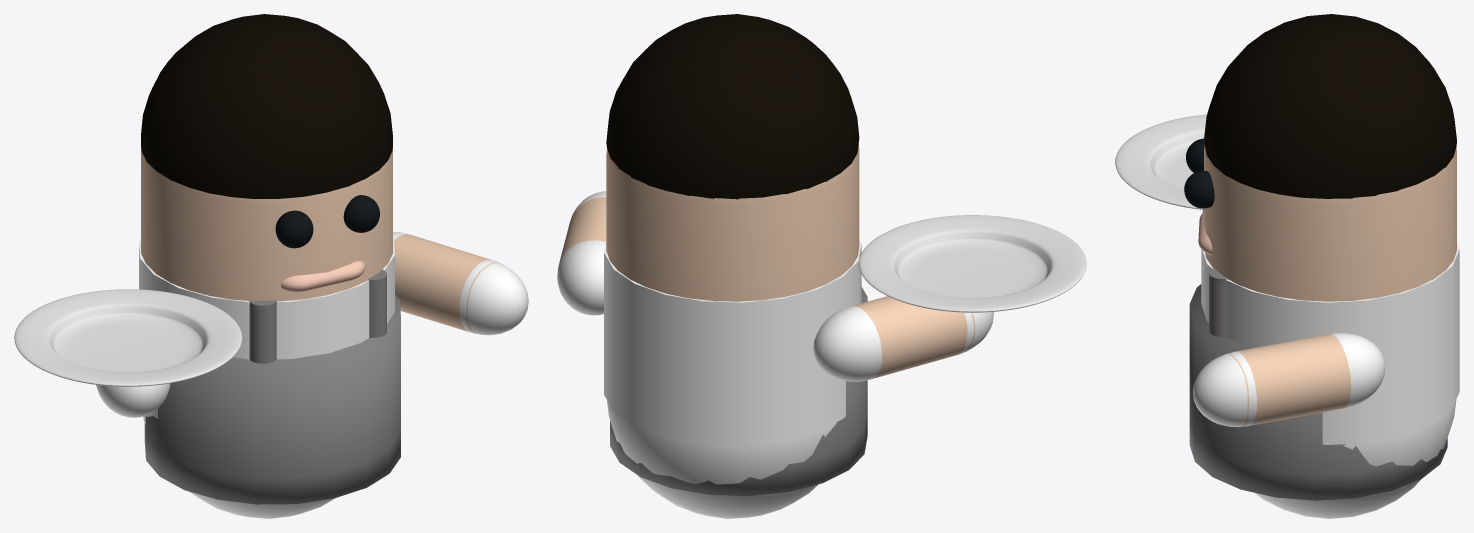
File: waitor2.fbx
The picture shows the model from 3 angles, left to right: view 1: azimuth 30°, elevation 25°; view 2: azimuth 150°, elevation 25°; view 3: azimuth 270°, elevation 25°; orthographic projection.
Visible parts, largest first — view 1: Hair, Apron, Body, Plate, Shirt, RightArm, RIghtGlove, LeftGlove, Pants, Mouth, LeftEye, RightEye; view 2: Hair, Shirt, Body, Plate, Pants, Apron, LeftArm, BottomStripe, LeftSleeve, RightSleeve, TopStripe, RightArm (+1 smaller); view 3: Hair, Body, Shirt, Apron, RightArm, Plate, Pants, RIghtGlove, BottomStripe, RightSleeve, TopStripe, RightEye (+1 smaller).
Part boxes in pixels (x1,y1,x2,y2): Hair: (141,14,392,198); Apron: (144,269,400,504); Body: (141,147,392,301); Plate: (14,289,242,386); Shirt: (139,237,394,359); RightArm: (394,234,498,333); RIghtGlove: (459,259,528,335); LeftGlove: (96,383,170,417); Pants: (143,413,335,518); Mouth: (281,261,365,292); LeftEye: (275,210,313,248); RightEye: (343,195,379,232); Hair: (606,14,859,199); Shirt: (604,240,861,417); Body: (606,145,859,301); Plate: (859,215,1086,312); Pants: (607,400,836,518); Apron: (610,287,867,495); LeftArm: (853,296,975,378); BottomStripe: (604,377,845,444); LeftSleeve: (813,306,881,381); RightSleeve: (557,240,605,315); TopStripe: (604,368,845,426); RightArm: (559,193,606,263); Hair: (1204,14,1456,198); Body: (1204,145,1456,301); Shirt: (1201,242,1459,417); Apron: (1189,268,1447,500); RightArm: (1228,334,1351,426); Plate: (1115,114,1206,209); Pants: (1254,400,1456,518); RIghtGlove: (1193,351,1256,427); BottomStripe: (1322,374,1459,444); RightSleeve: (1330,333,1385,408); TopStripe: (1322,365,1459,426); RightEye: (1184,170,1214,208).
Size of the model in its own units: 225 by 210 by 136.
